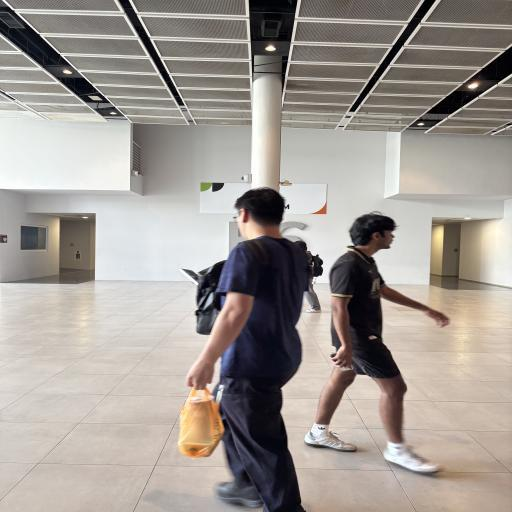person_left: (147, 190, 321, 507)
person_right: (310, 206, 454, 484)
